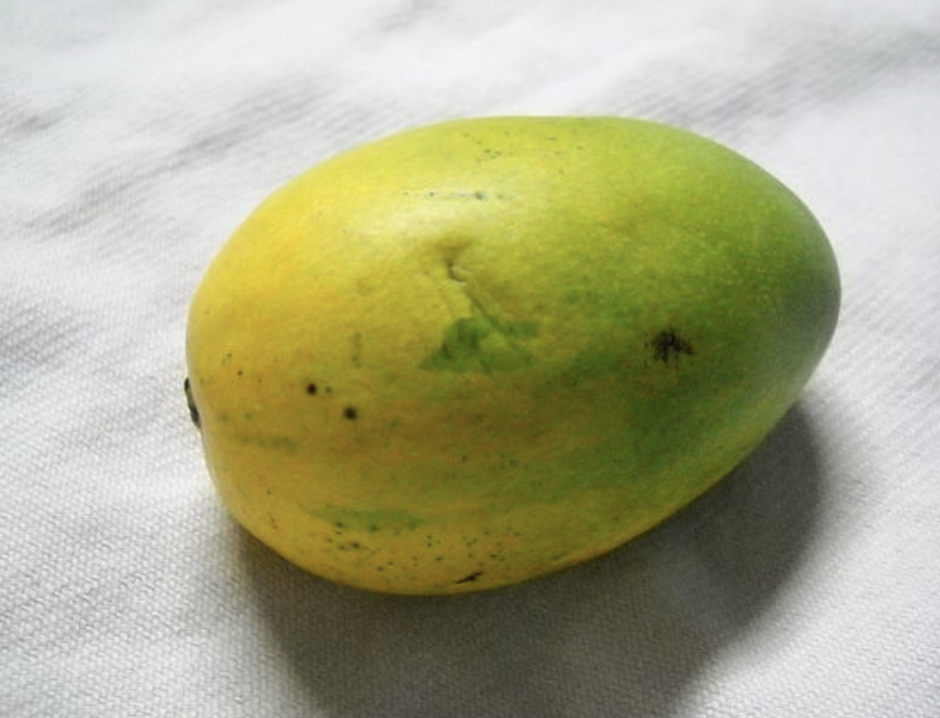mango: (71, 63, 885, 650)
